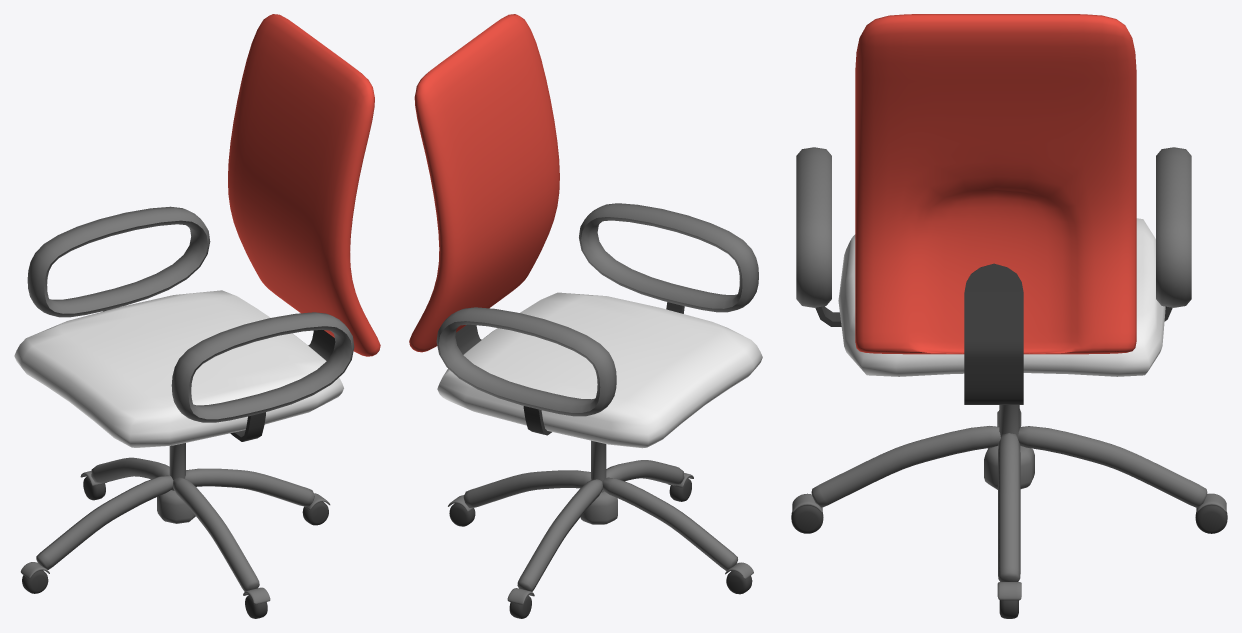
File: Office Chair03.fbx
3 views of the same model, side by side, from view 1: azimuth 30°, elevation 25°; view 2: azimuth 150°, elevation 25°; view 3: azimuth 270°, elevation 25° (orthographic). The views are drawn at different scales.
Parts seen in each view (by area): view 1: Office Chair03; view 2: Office Chair03; view 3: Office Chair03.
Boxes of the visible parts, x1,y1,x2,y2 form: Office Chair03: [14, 14, 380, 618]; Office Chair03: [409, 14, 762, 618]; Office Chair03: [791, 14, 1227, 618].
Size of the model in its own units: 0.453 by 0.453 by 0.69.
